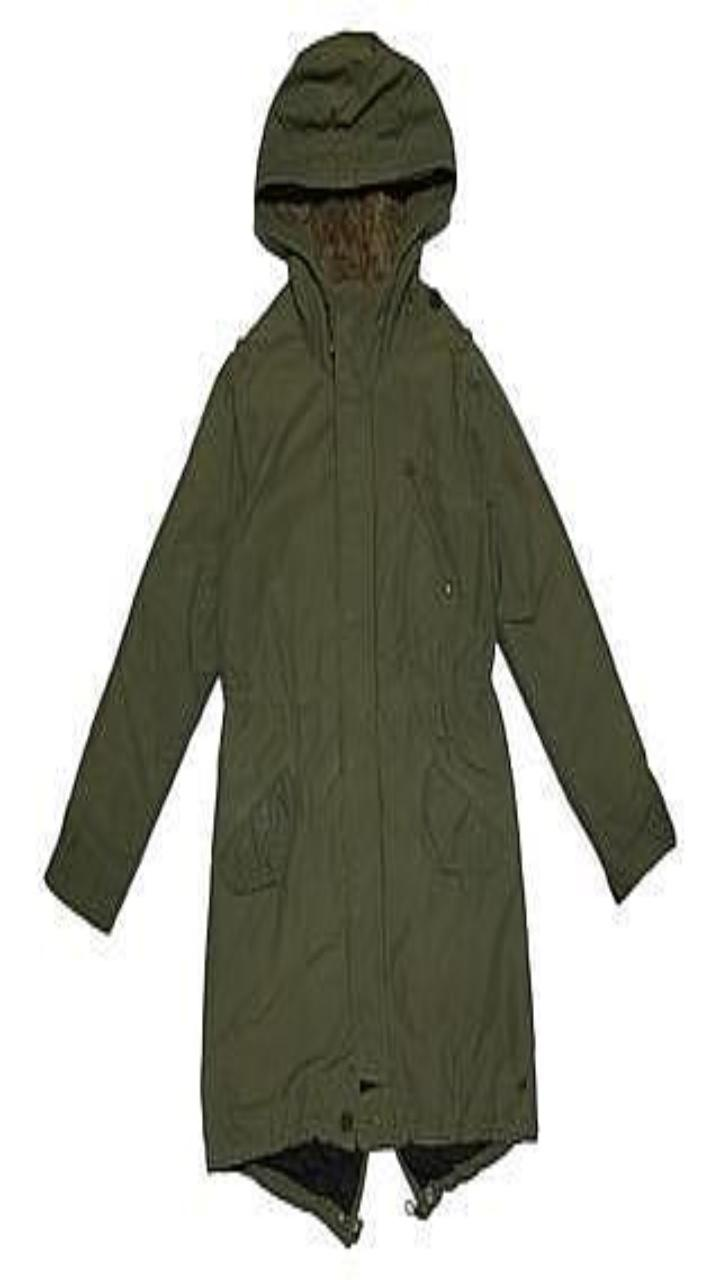Coat: (45, 30, 674, 1243)
